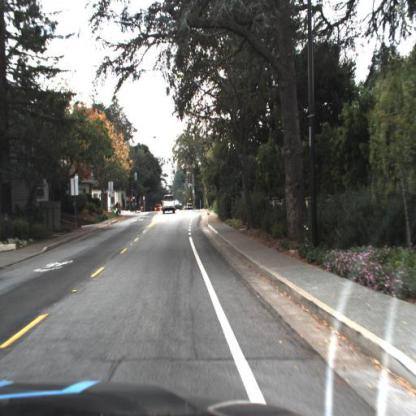car: (163, 193, 175, 215)
